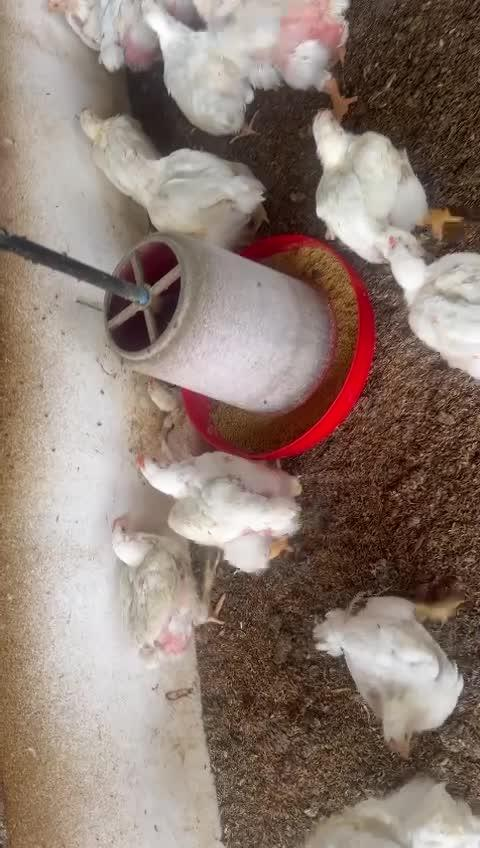AbNormal: (314, 590, 463, 763), (76, 107, 173, 222), (47, 0, 160, 71), (142, 380, 205, 465)
Normal: (136, 454, 304, 574), (195, 0, 364, 117), (312, 107, 461, 238), (136, 0, 257, 138), (122, 142, 272, 249), (113, 517, 229, 651), (380, 231, 480, 366), (304, 778, 480, 848)
